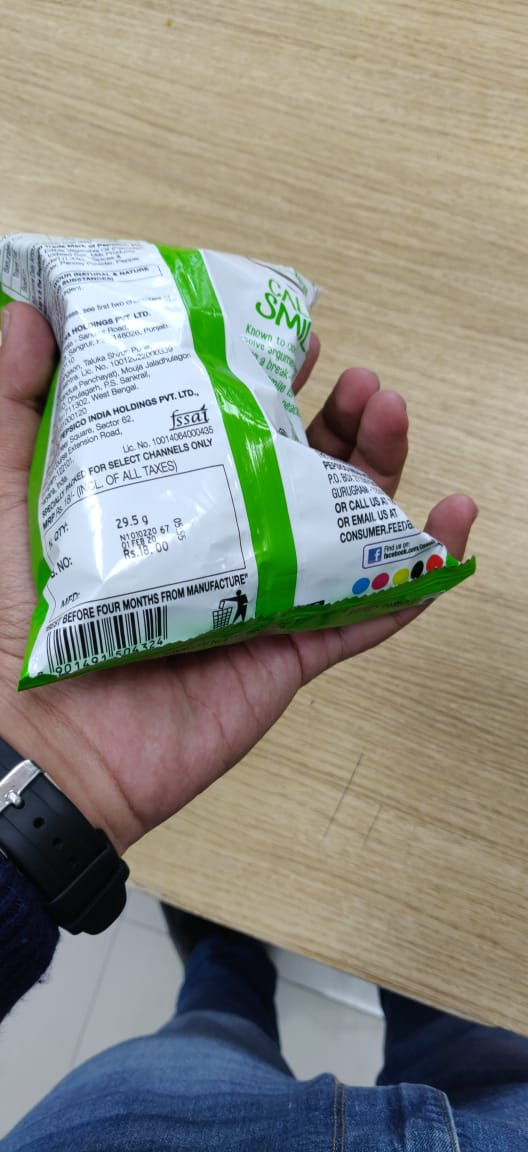lays chips: (1, 169, 499, 714)
